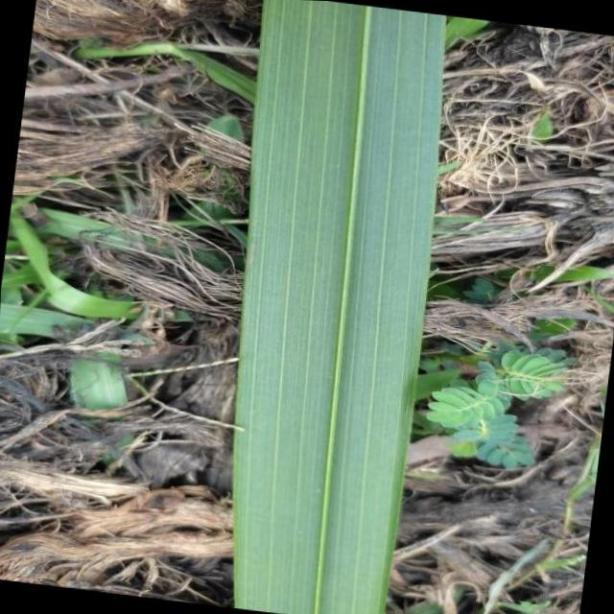Healthy: (235, 0, 446, 614)
